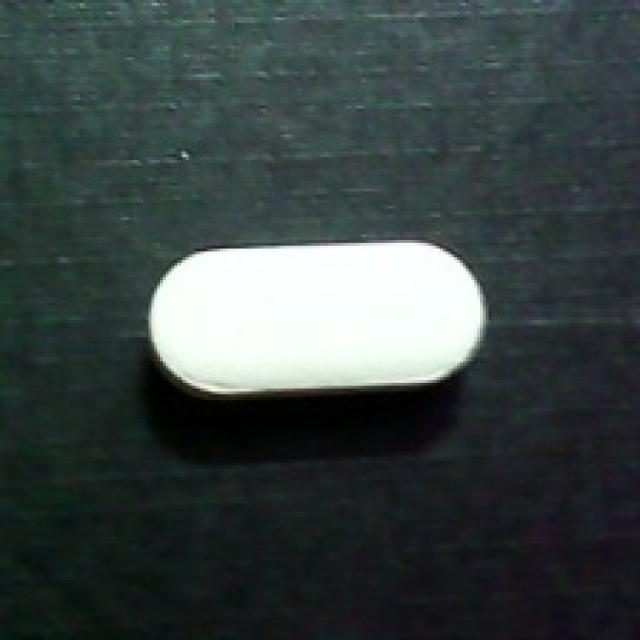no-defect: (143, 237, 491, 409)
